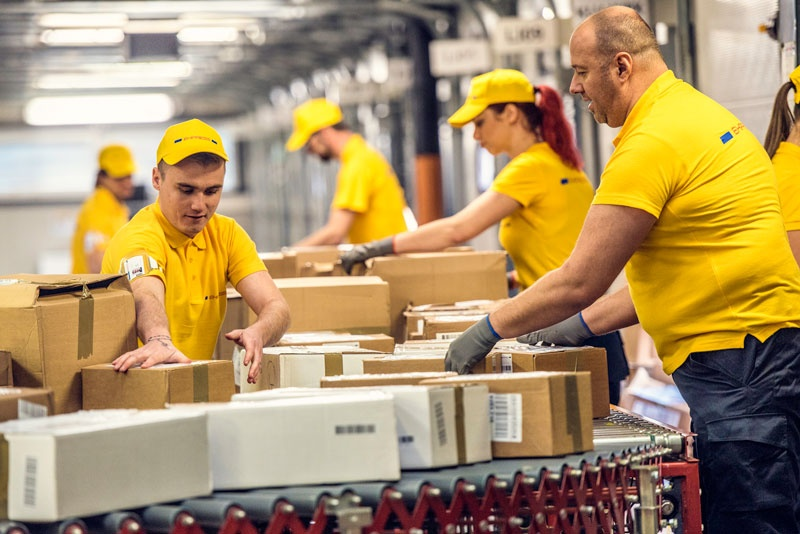none: (565, 3, 659, 130)
yellow: (149, 117, 227, 238), (462, 62, 541, 158), (291, 100, 346, 163), (93, 142, 139, 202)
